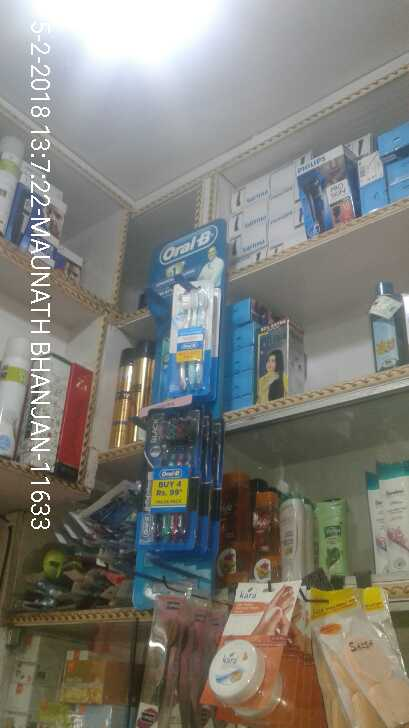oralb: (166, 278, 217, 392), (150, 418, 194, 539)
